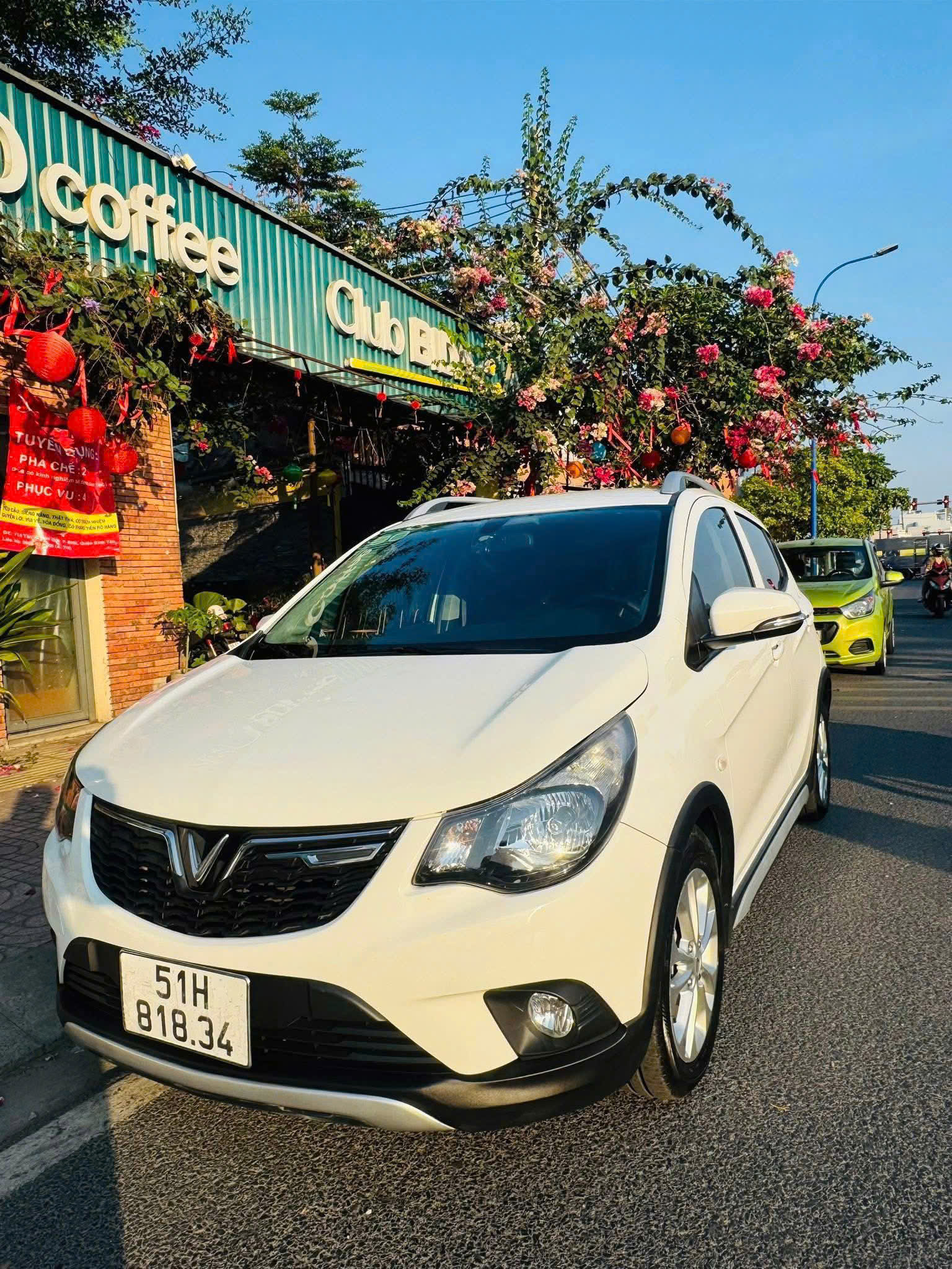Bien-so: (122, 953, 252, 1059)
